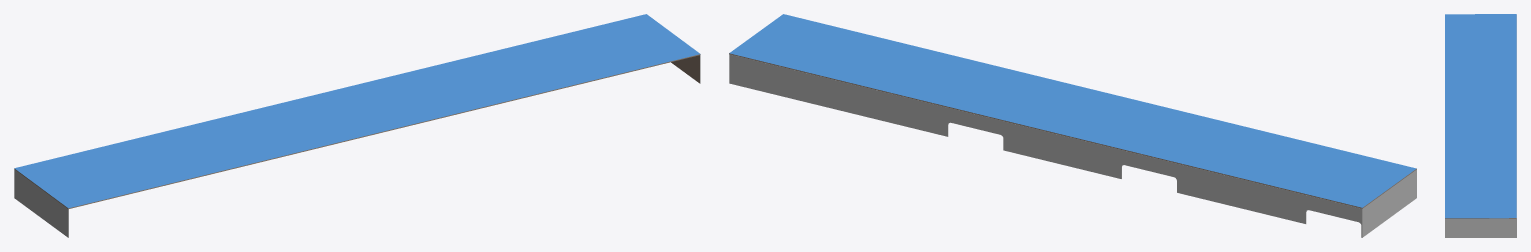
The model's file is Right_side_station.fbx.
The picture shows the model from 3 angles, left to right: view 1: azimuth 30°, elevation 25°; view 2: azimuth 150°, elevation 25°; view 3: azimuth 270°, elevation 25°; orthographic projection. The views are drawn at different scales.
Parts seen in each view (by area): view 1: Plane.105, Plane.104; view 2: Plane.105, Plane.104; view 3: Plane.105, Plane.104.
Part boxes in pixels (box(x1,y1,x2,y2)): Plane.105: box(14, 14, 700, 209); Plane.104: box(14, 55, 700, 237); Plane.105: box(729, 14, 1416, 208); Plane.104: box(729, 54, 1416, 237); Plane.105: box(1445, 14, 1516, 218); Plane.104: box(1445, 15, 1516, 237).
Bounding box in the file's own units: 22347 × 1015 × 3324.
